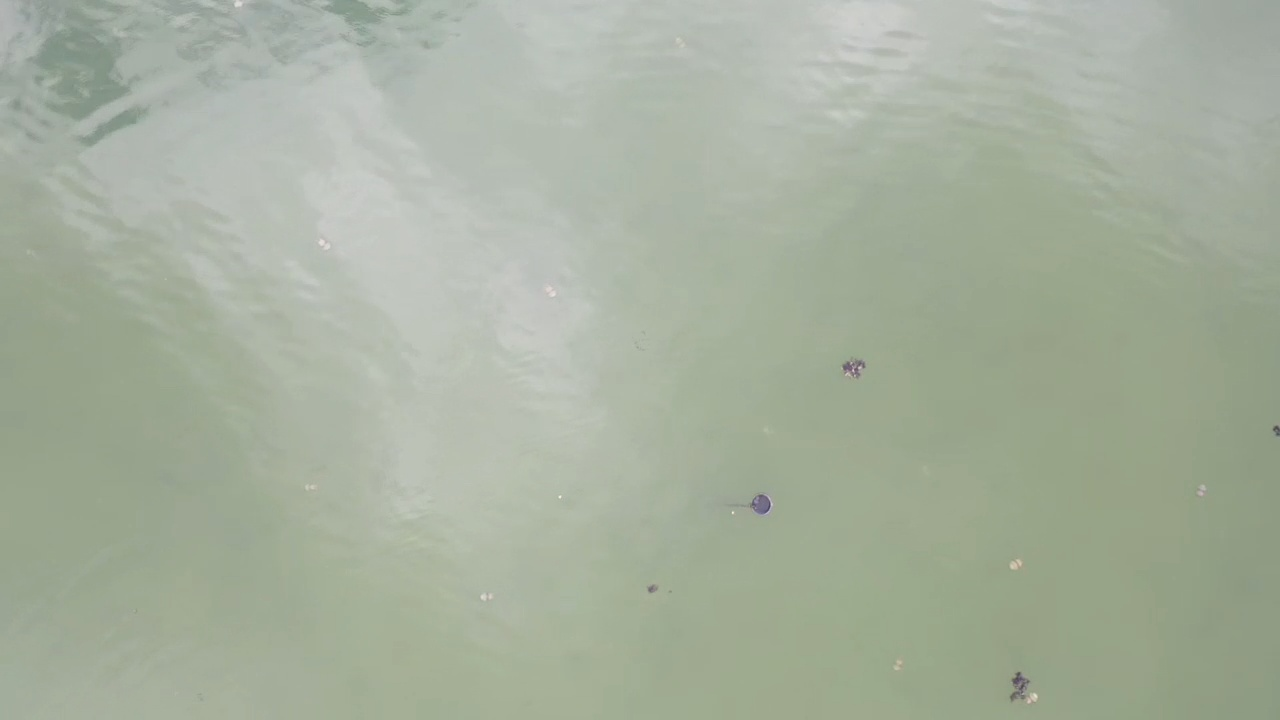meduse: (672, 34, 685, 50), (305, 480, 318, 493), (1010, 557, 1024, 569), (320, 237, 332, 251), (1022, 693, 1039, 702), (545, 286, 557, 298), (480, 589, 494, 599), (1197, 484, 1208, 496), (892, 659, 904, 669), (232, 1, 245, 9)
